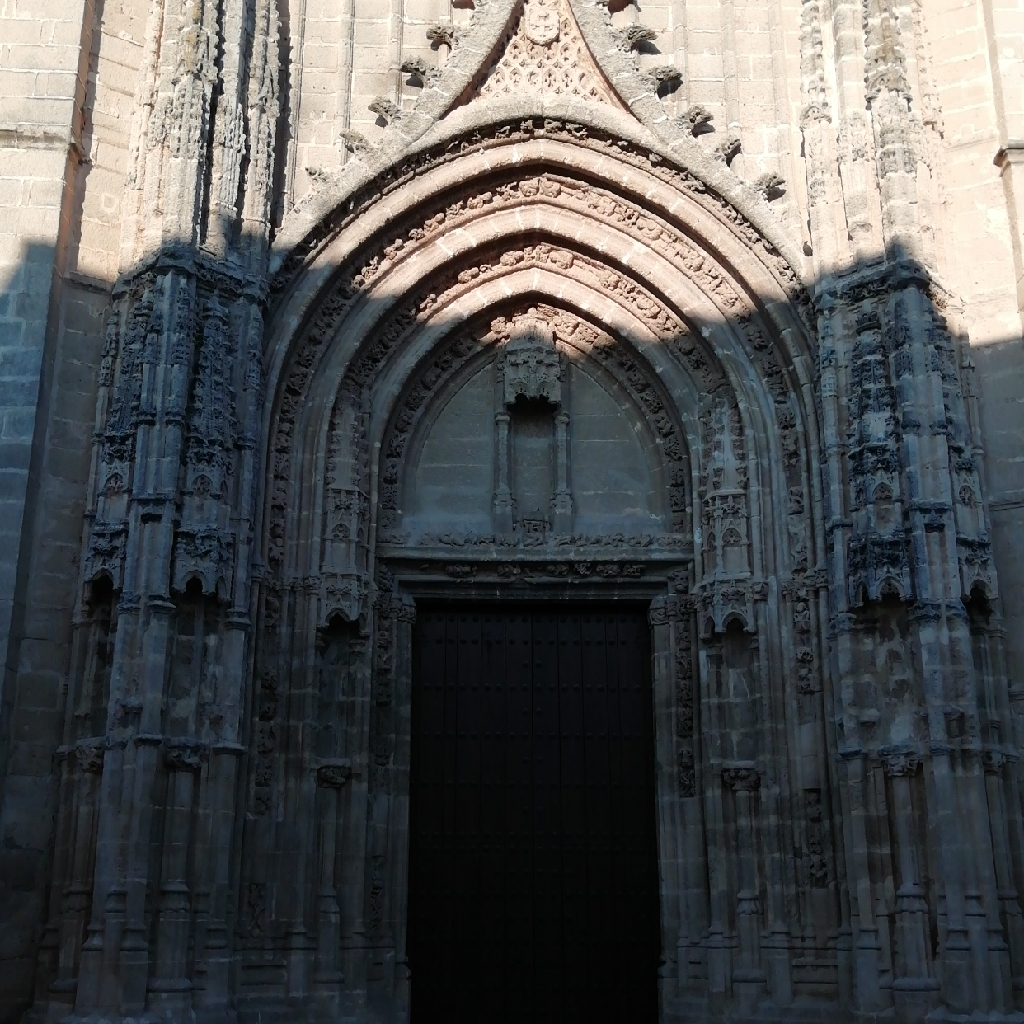arco-apuntado: (290, 149, 781, 560)
